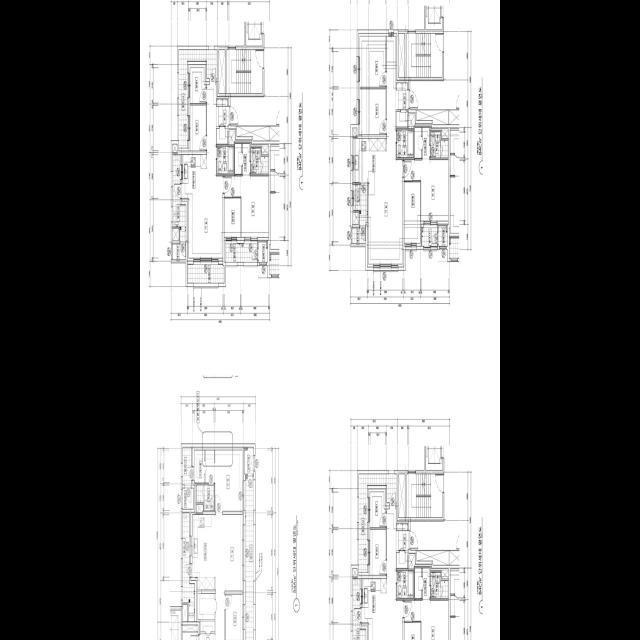background: (140, 0, 500, 640)
space_balconi: (359, 473, 397, 572), (179, 49, 217, 147), (245, 475, 254, 640), (183, 512, 195, 621), (173, 154, 186, 241), (353, 578, 366, 640), (188, 264, 224, 282), (226, 243, 258, 262), (354, 184, 368, 225), (183, 447, 191, 485), (422, 225, 437, 245)
space_bedroom: (225, 175, 269, 236), (404, 159, 448, 220), (404, 600, 448, 640), (215, 450, 242, 511), (360, 36, 386, 86), (360, 88, 386, 134), (190, 104, 206, 150), (370, 529, 386, 575), (226, 594, 242, 640), (190, 67, 206, 103), (370, 491, 386, 527)
space_dressroom: (194, 450, 214, 482), (235, 143, 250, 174), (415, 127, 430, 157), (415, 568, 430, 598)
space_front: (396, 82, 409, 109), (216, 98, 228, 126), (396, 523, 408, 550), (199, 633, 216, 640)
space_kitchen: (192, 514, 215, 589), (354, 138, 386, 182), (181, 154, 207, 198), (361, 578, 387, 622)
space_living_room: (369, 36, 403, 263), (189, 84, 223, 257), (369, 509, 403, 640), (215, 514, 242, 640)
space_multipurpose_space: (404, 182, 420, 243), (224, 198, 240, 237), (404, 622, 420, 640)
space_other: (417, 109, 449, 124), (417, 550, 449, 565), (237, 126, 269, 140), (198, 593, 215, 619), (398, 33, 405, 76), (219, 49, 225, 93), (399, 473, 405, 517), (352, 227, 366, 243), (183, 488, 193, 509), (173, 244, 186, 259), (397, 111, 408, 127), (397, 552, 408, 568), (217, 128, 228, 143), (201, 621, 215, 631), (183, 625, 198, 631), (229, 130, 235, 144), (408, 114, 414, 128), (409, 555, 415, 568), (173, 228, 179, 240), (183, 604, 187, 621), (353, 212, 359, 222), (196, 504, 203, 512), (262, 146, 269, 154), (442, 129, 448, 138), (442, 570, 448, 578), (173, 144, 177, 152), (353, 568, 357, 576), (353, 129, 357, 136)
space_outdoor_room: (244, 447, 254, 473), (258, 241, 268, 262), (438, 225, 447, 245)
space_staircase: (227, 49, 263, 92), (406, 33, 442, 76), (407, 473, 442, 517)
space_toilet: (217, 145, 234, 174), (196, 484, 214, 511), (251, 147, 269, 174), (397, 570, 414, 598), (397, 129, 414, 157), (430, 131, 448, 157), (431, 572, 448, 598)
